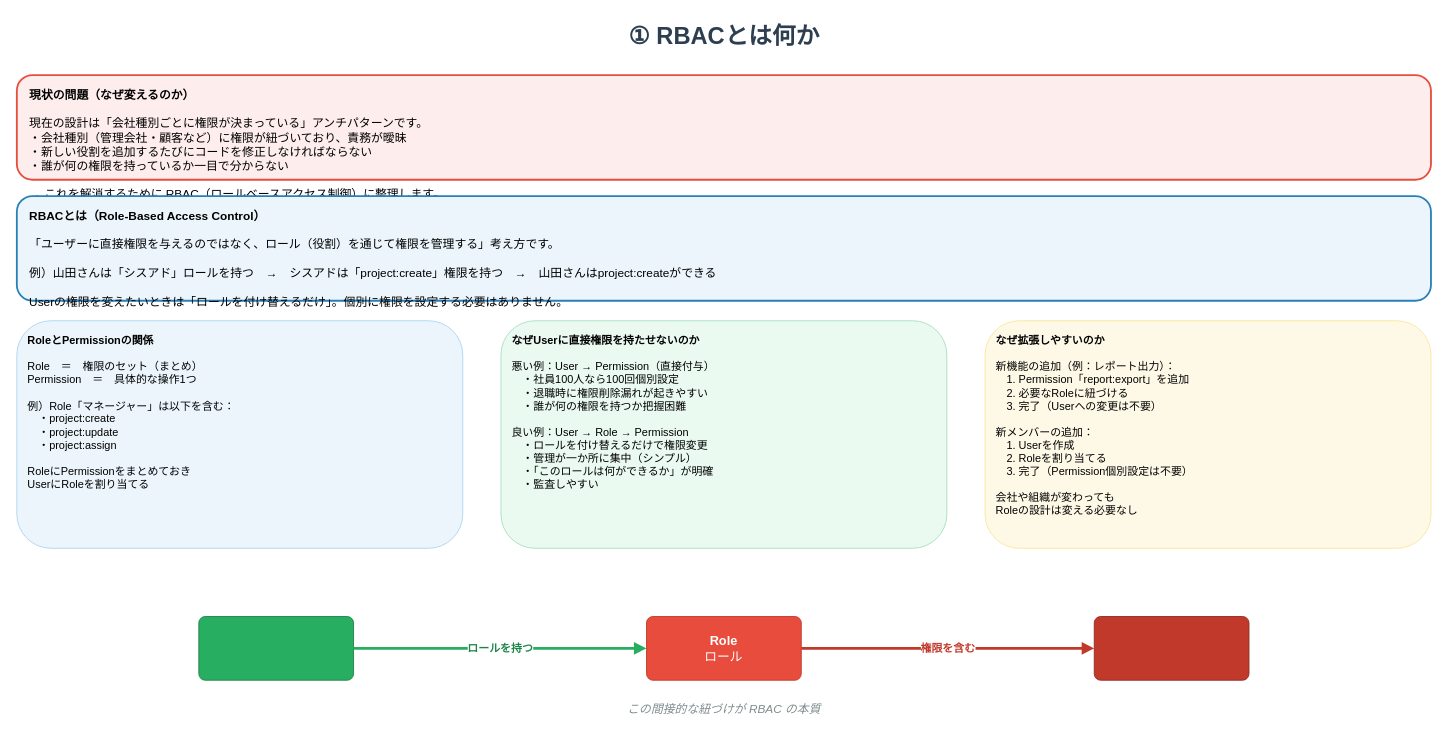
This 1447x734 diagram has some shape labels left out. The box of each missing label's shape, as (x1, y1, x2, y2) in pixels:
Permission 権限: (1093, 616, 1249, 680)
User ユーザー: (198, 616, 354, 680)
